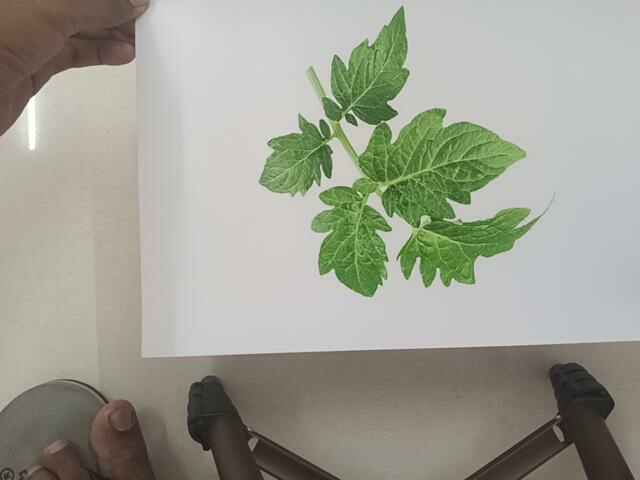Tomamto_Leaf_Healthy: (242, 10, 559, 294)
